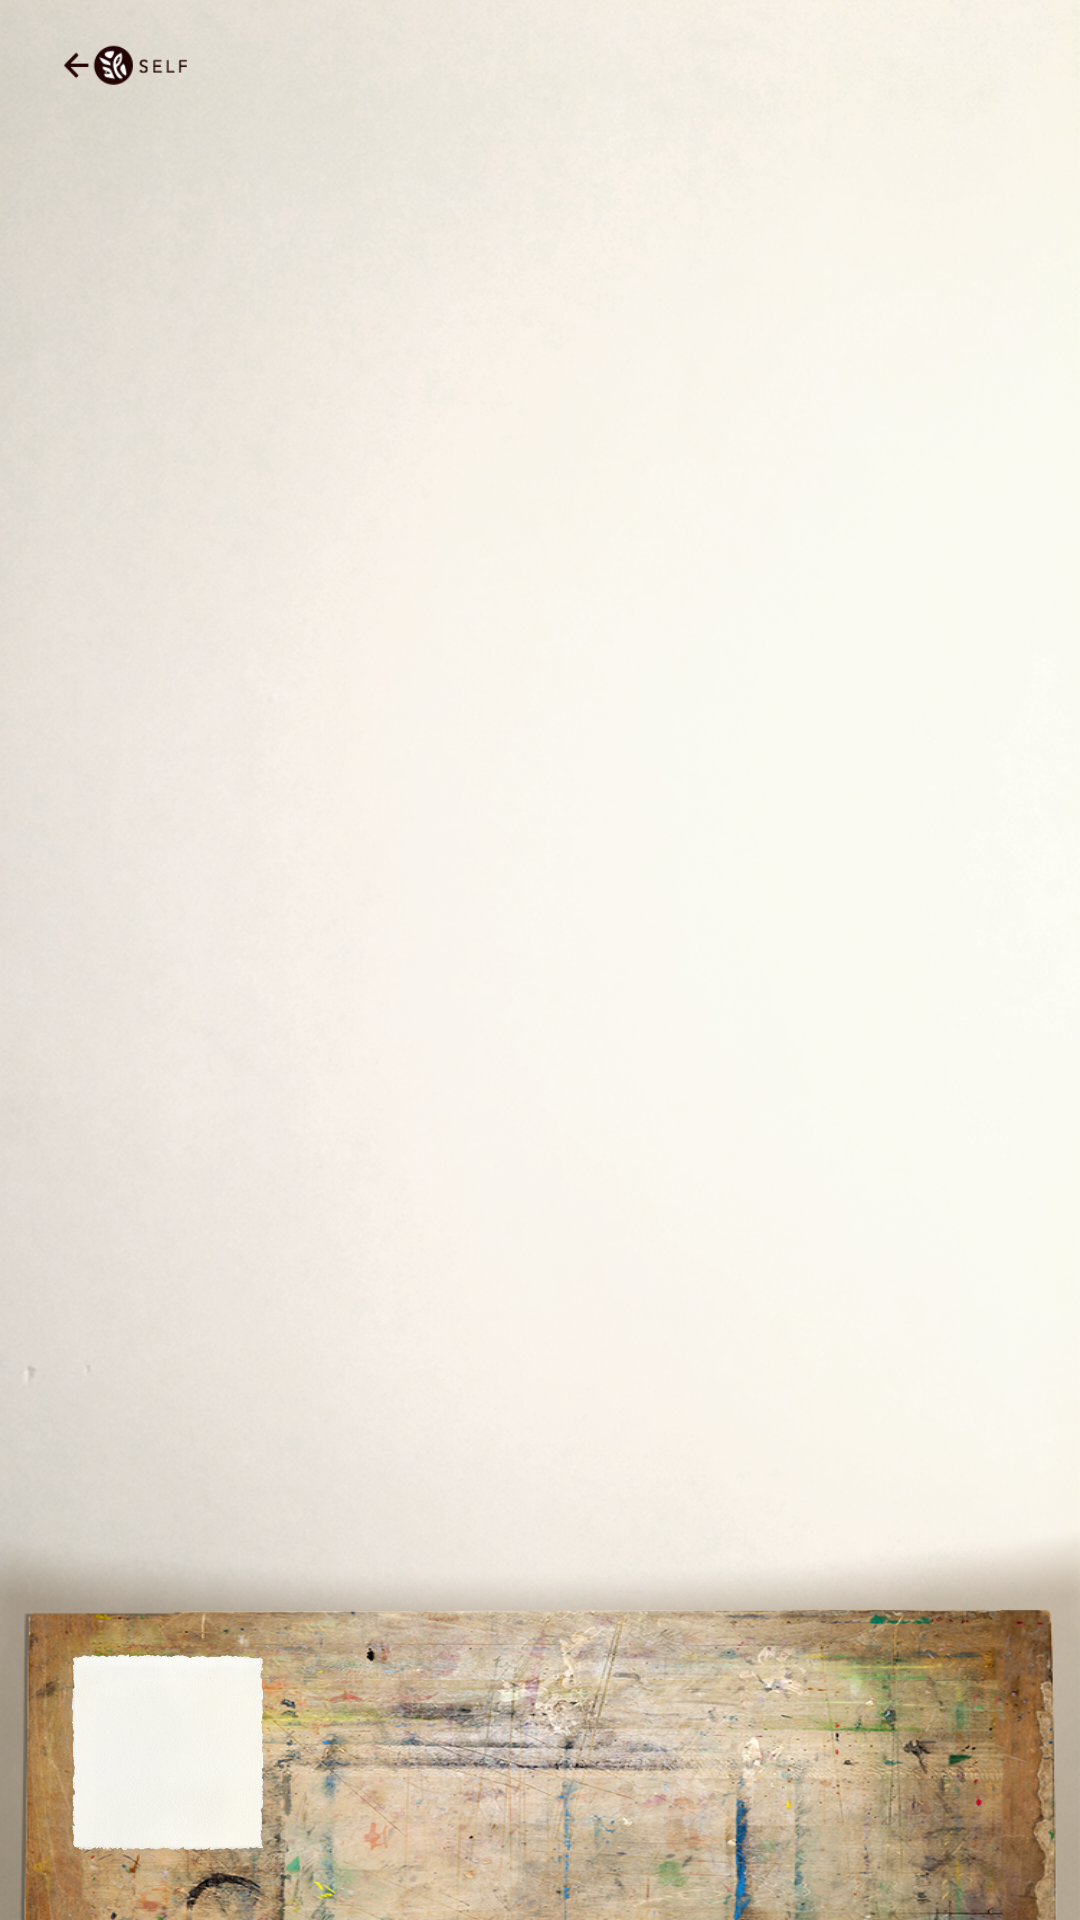

Where to tap for icons on this 1080x1920 app screen, as (x,y):
portfolio paperold: (168,1752)
